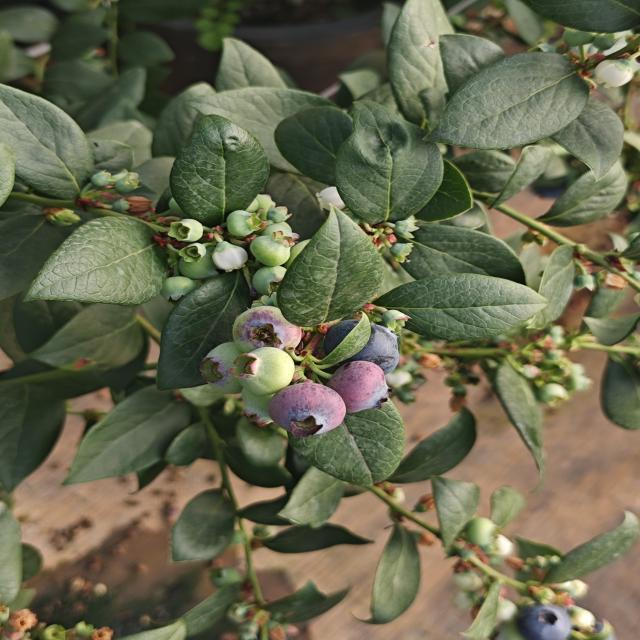ripe: (315, 317, 417, 382), (259, 382, 351, 440), (511, 599, 589, 640)
